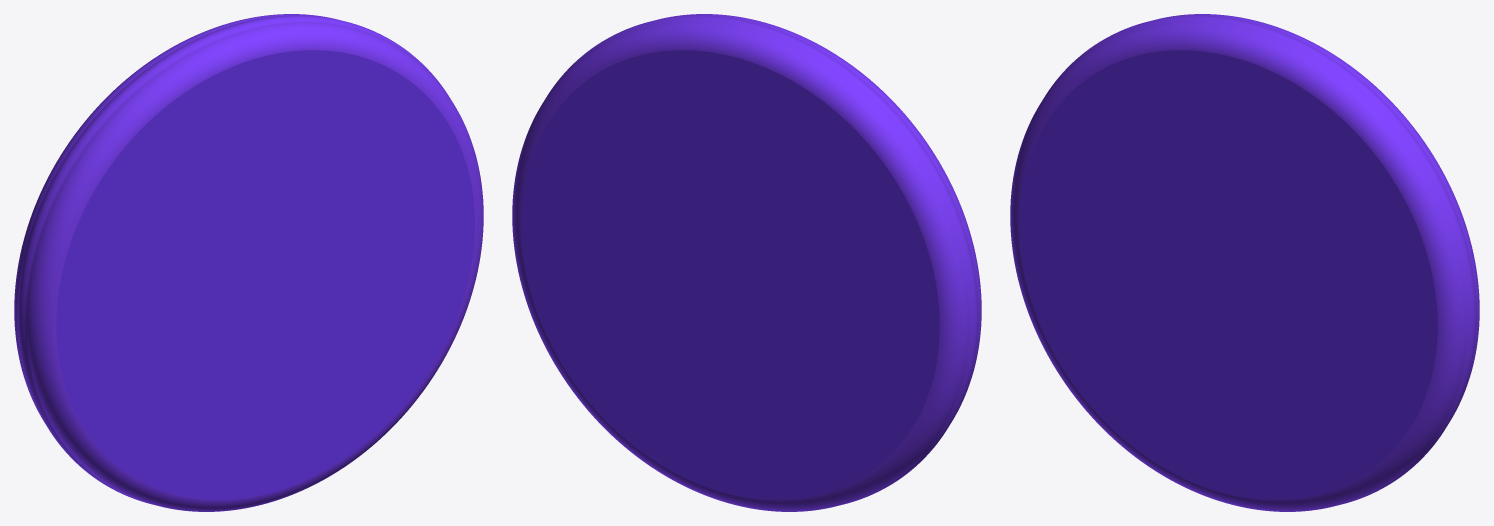
File: nav-coin-wallet.glb
The picture shows the model from 3 angles, left to right: view 1: azimuth 30°, elevation 25°; view 2: azimuth 150°, elevation 25°; view 3: azimuth 330°, elevation 25°; orthographic projection.
Parts seen in each view (by area): view 1: coin-wallet; view 2: coin-wallet; view 3: coin-wallet.
Part boxes in pixels (x1=…): coin-wallet: x1=14, y1=14, x2=483, y2=511; coin-wallet: x1=512, y1=14, x2=981, y2=511; coin-wallet: x1=1010, y1=14, x2=1479, y2=511.
Size of the model in its own units: 56.5 by 56.5 by 7.1.
